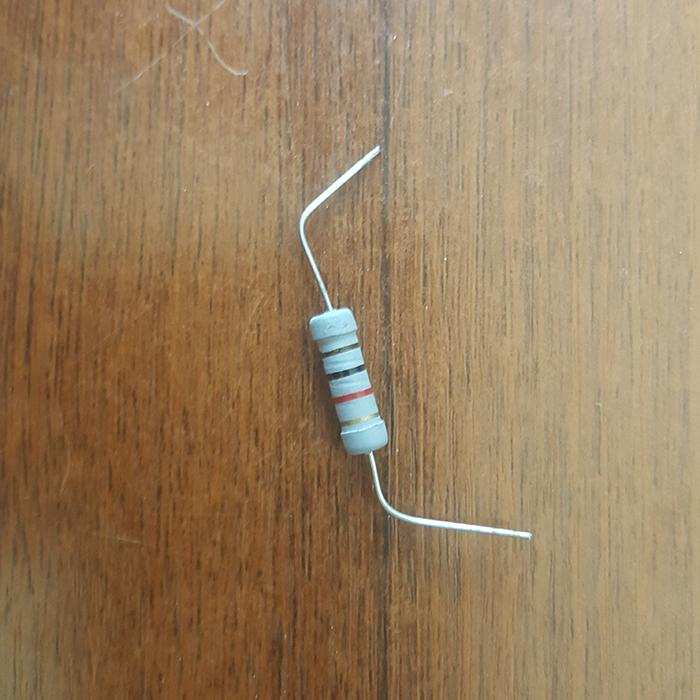resistor: (308, 305, 389, 451)
